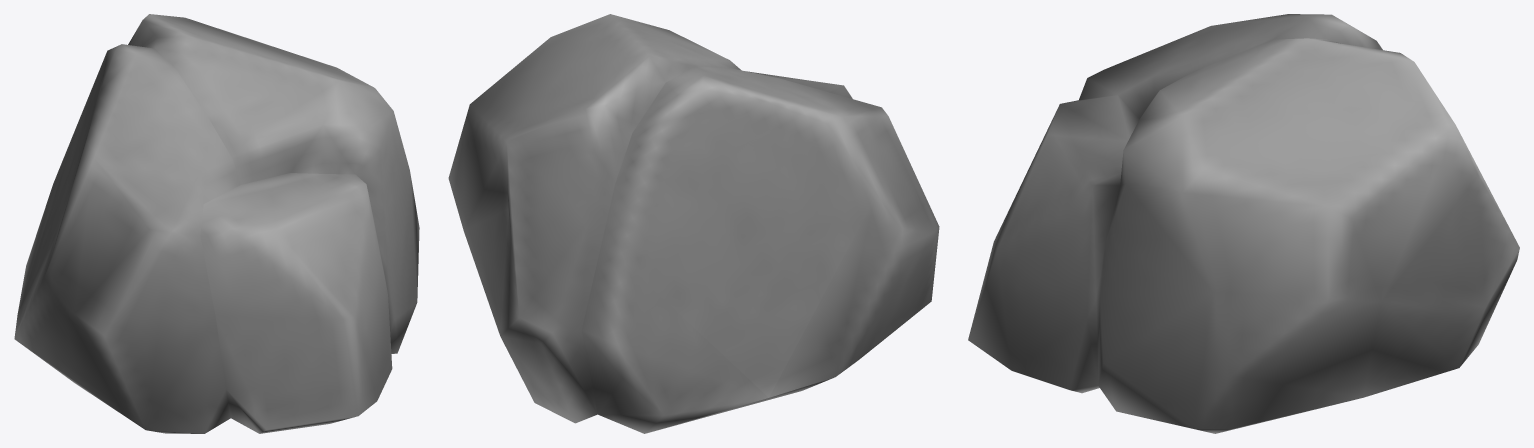
File: SM_Rocks_01.obj
3 views of the same model, side by side, from view 1: azimuth 30°, elevation 25°; view 2: azimuth 150°, elevation 25°; view 3: azimuth 270°, elevation 25° (orthographic). The views are drawn at different scales.
Visible parts, largest first — view 1: SM_Rocks_01; view 2: SM_Rocks_01; view 3: SM_Rocks_01.
Boxes of the visible parts, box(x1,y1,x2,y2) form: SM_Rocks_01: box(14, 14, 419, 433); SM_Rocks_01: box(448, 14, 939, 433); SM_Rocks_01: box(968, 14, 1519, 433).
Bounding box in the file's own units: 0.4527 × 0.3245 × 0.5157.
Materials: 1 (1 with a texture image).
